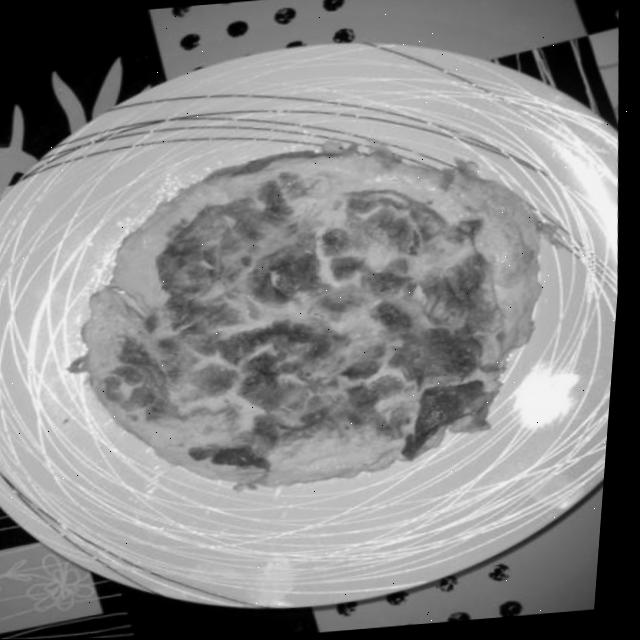面包点心: (2, 77, 616, 580)
